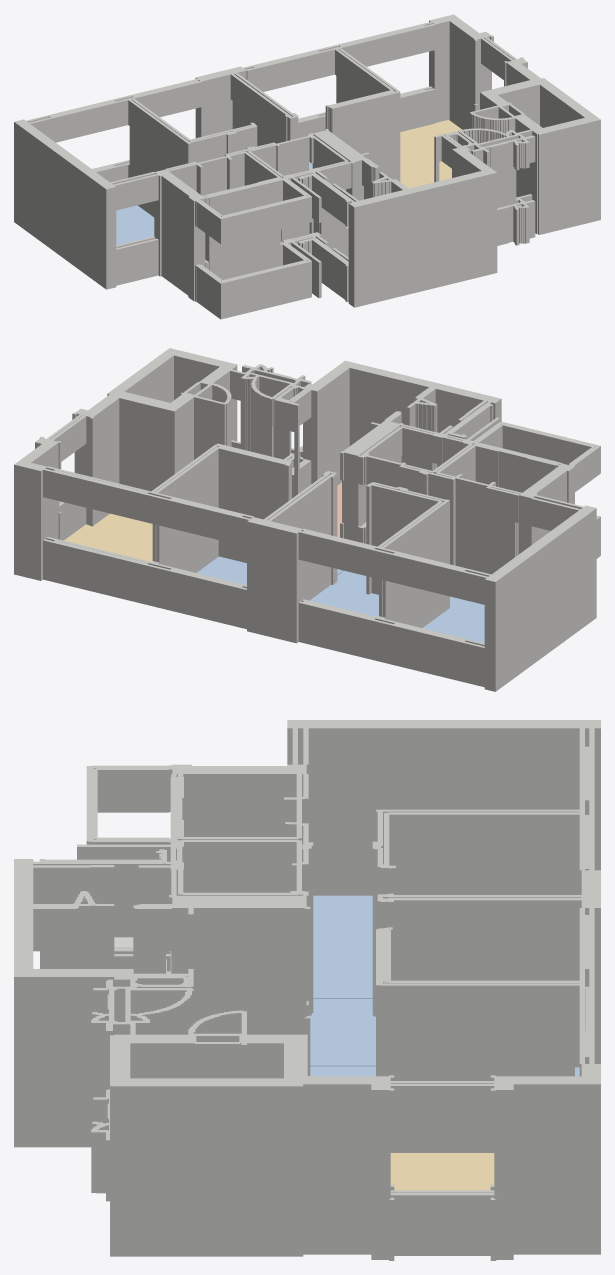
3 views of the same model, one above another, from view 1: azimuth 30°, elevation 25°; view 2: azimuth 150°, elevation 25°; view 3: azimuth 270°, elevation 25° (orthographic). The views are drawn at different scales.
Parts seen in each view (by area): view 1: walls, room:living:3, room:bedroom:0; view 2: walls, room:living:3, room:bedroom:1, room:bedroom:0, room:bedroom:2; view 3: walls, room:bedroom:0, room:bedroom:1, room:living:3, room:bedroom:2.
Boxes of the visible parts, x1,y1,x2,y2 form: walls: (14, 14, 600, 319); room:living:3: (400, 120, 462, 188); room:bedroom:0: (116, 205, 154, 245); walls: (14, 348, 600, 691); room:living:3: (64, 513, 152, 561); room:bedroom:1: (310, 570, 378, 616); room:bedroom:0: (422, 596, 484, 643); room:bedroom:2: (197, 556, 343, 585); walls: (14, 720, 600, 1260); room:bedroom:0: (313, 895, 372, 998); room:bedroom:1: (309, 998, 375, 1066); room:living:3: (390, 1153, 494, 1190); room:bedroom:2: (309, 1066, 579, 1076).
Bounding box in the file's own units: 13.07 × 2.8 × 8.75.
